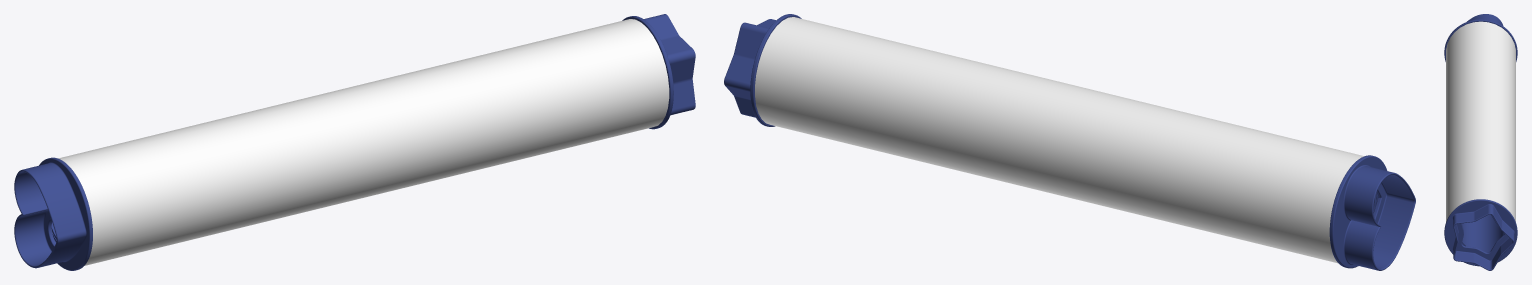
File: 241218 - tchibo - 4 in 1 rolling pin.glb
3 views of the same model, side by side, from view 1: azimuth 30°, elevation 25°; view 2: azimuth 150°, elevation 25°; view 3: azimuth 270°, elevation 25° (orthographic). The views are drawn at different scales.
Parts seen in each view (by area): view 1: NONE_1, Fillet7, Body-MoveCopy1; view 2: NONE_1, Fillet7, Body-MoveCopy1; view 3: NONE_1, Body-MoveCopy1, NONE, Fillet7.
Boxes of the visible parts, x1,y1,x2,y2 form: NONE_1: (58, 19, 669, 265); Fillet7: (14, 157, 92, 270); Body-MoveCopy1: (622, 14, 695, 129); NONE_1: (755, 17, 1364, 263); Fillet7: (1329, 155, 1415, 270); Body-MoveCopy1: (724, 14, 801, 126); NONE_1: (1446, 21, 1515, 221); Body-MoveCopy1: (1444, 199, 1517, 270); NONE: (1462, 214, 1504, 252); Fillet7: (1444, 14, 1517, 61).
Bounding box in the file's own units: 0.334 × 0.052 × 0.052.
